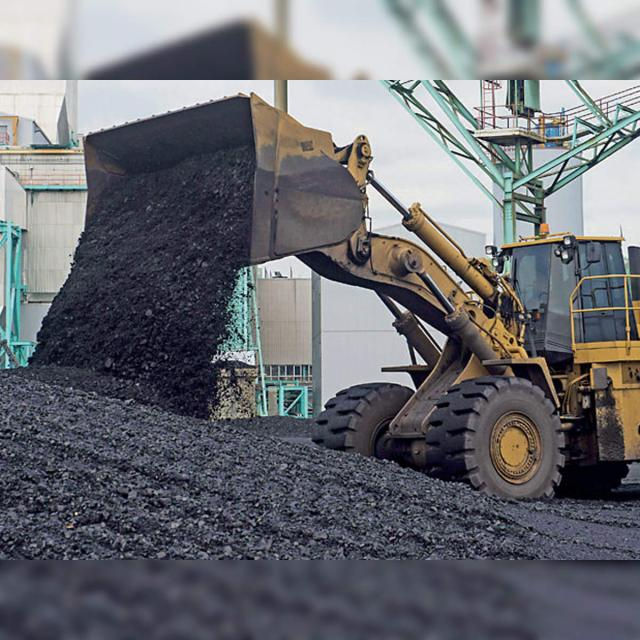buldozerpayloadergrader: (84, 96, 640, 505)
